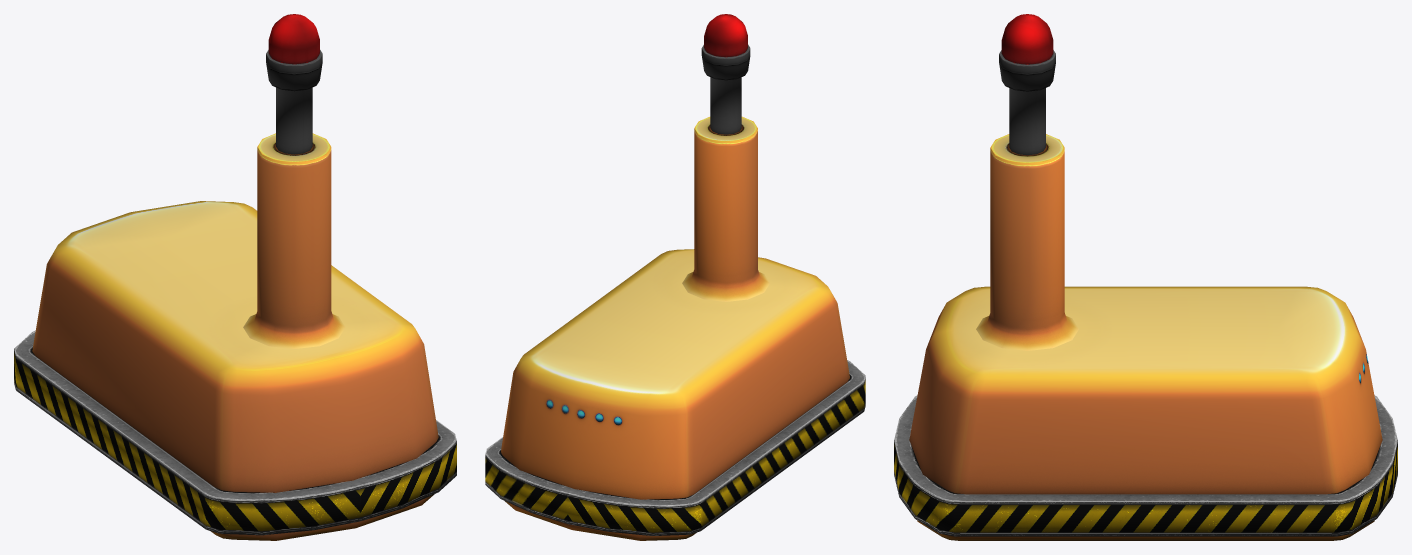
File: robot.dae
3 views of the same model, side by side, from view 1: azimuth 30°, elevation 25°; view 2: azimuth 150°, elevation 25°; view 3: azimuth 270°, elevation 25° (orthographic). The views are drawn at different scales.
Visible parts, largest first — view 1: Box002; view 2: Box002; view 3: Box002.
Part boxes in pixels (x1,y1,x2,y2): Box002: (14, 14, 456, 540); Box002: (485, 14, 865, 540); Box002: (894, 14, 1397, 540).
Size of the model in its own units: 0.6727 by 1.17 by 1.21.
1 material, 1 textured.
